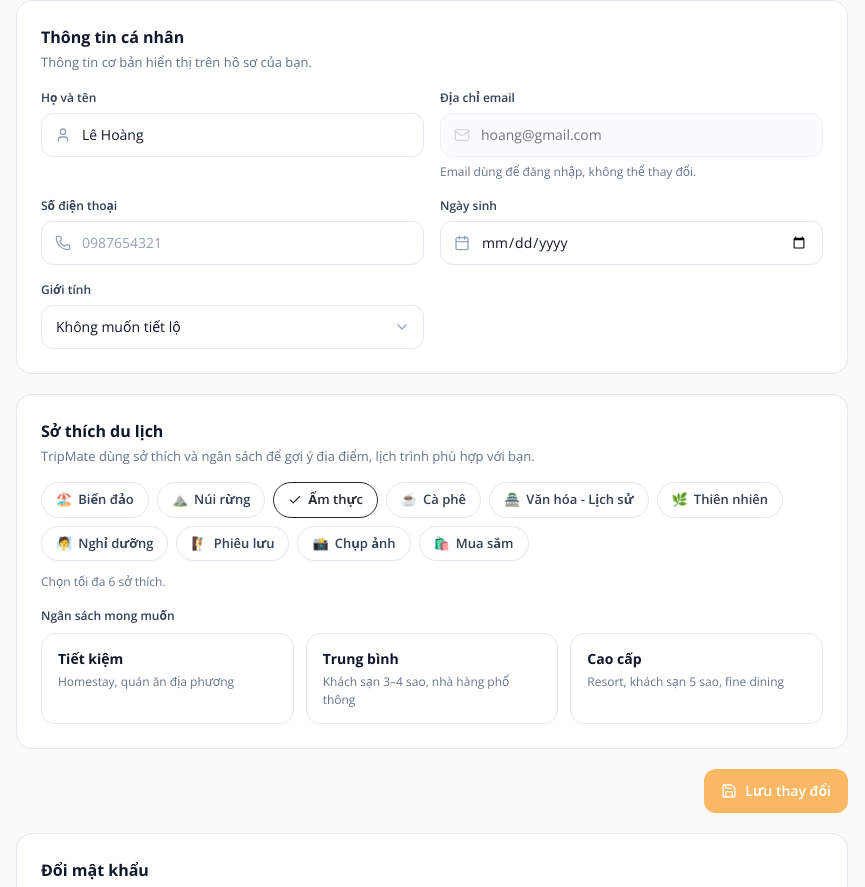
Test: Tab Cài đặt tài khoản › giới hạn tối đa 6 sở thích
Click the button "🏖️ Biển đảo" at coordinates (95, 500), box [41,482,149,518]
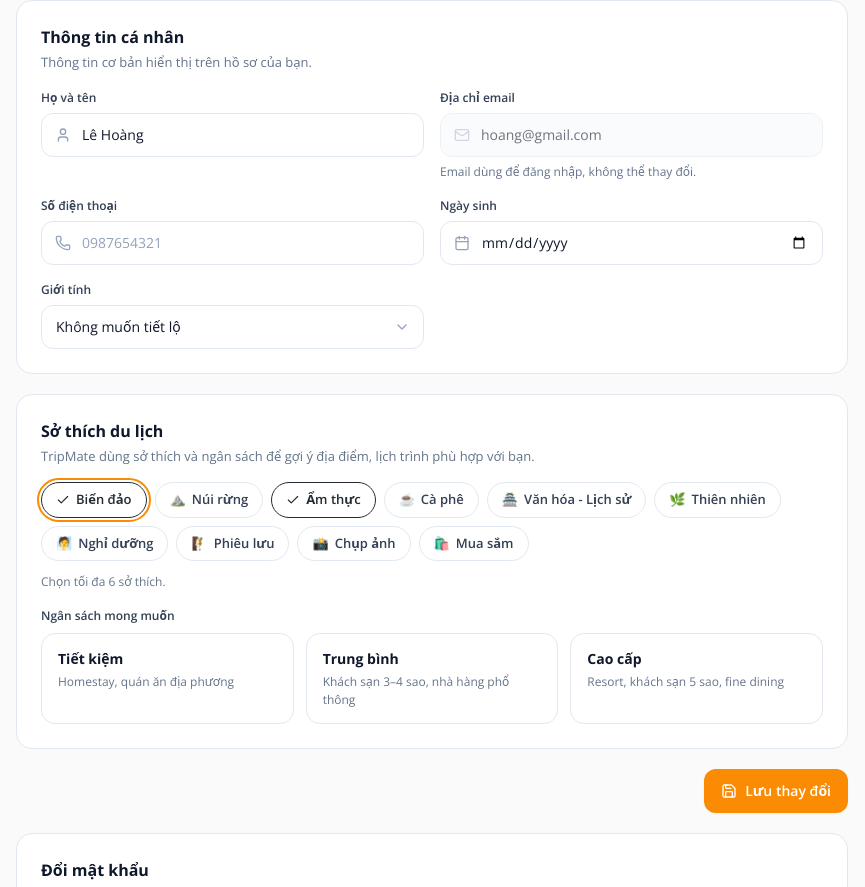
Click the button "⛰️ Núi rừng" at coordinates (209, 500), box [154,482,263,518]
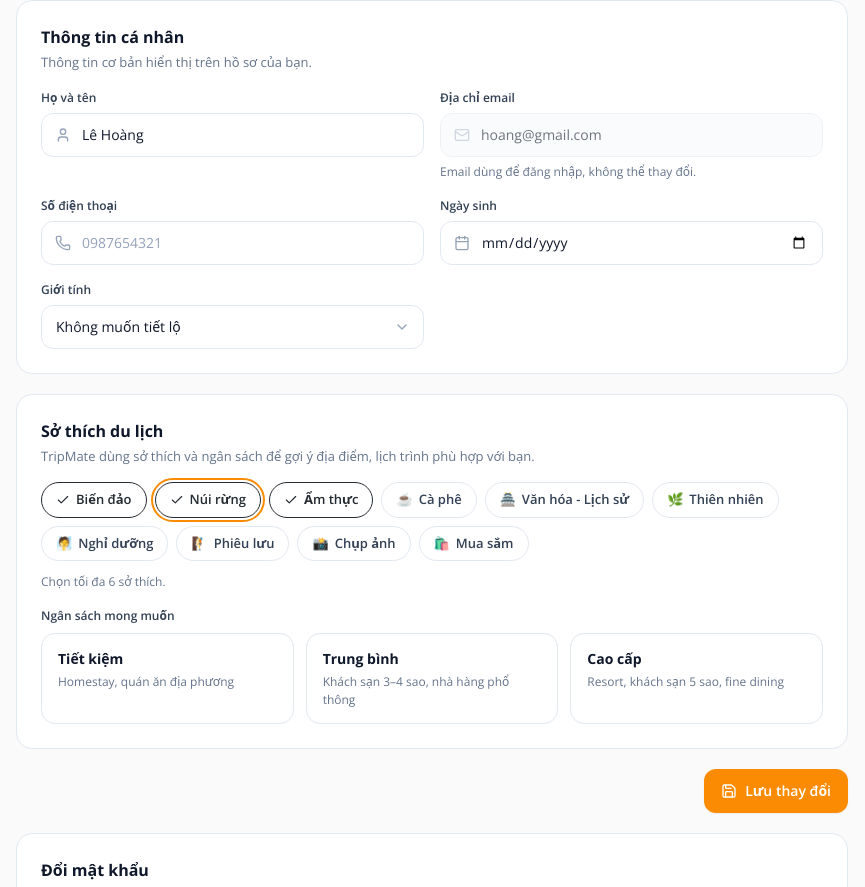
Click the button "☕ Cà phê" at coordinates (429, 500), box [381,482,477,518]
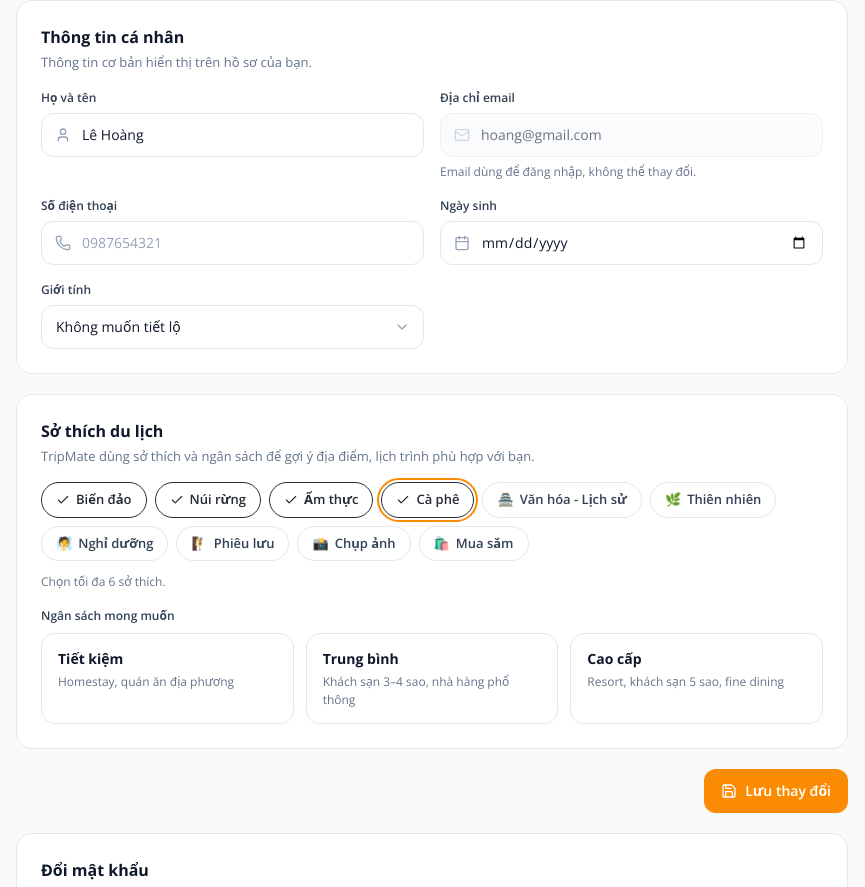
Click the button "🌿 Thiên nhiên" at coordinates (713, 500), box [650,482,776,518]
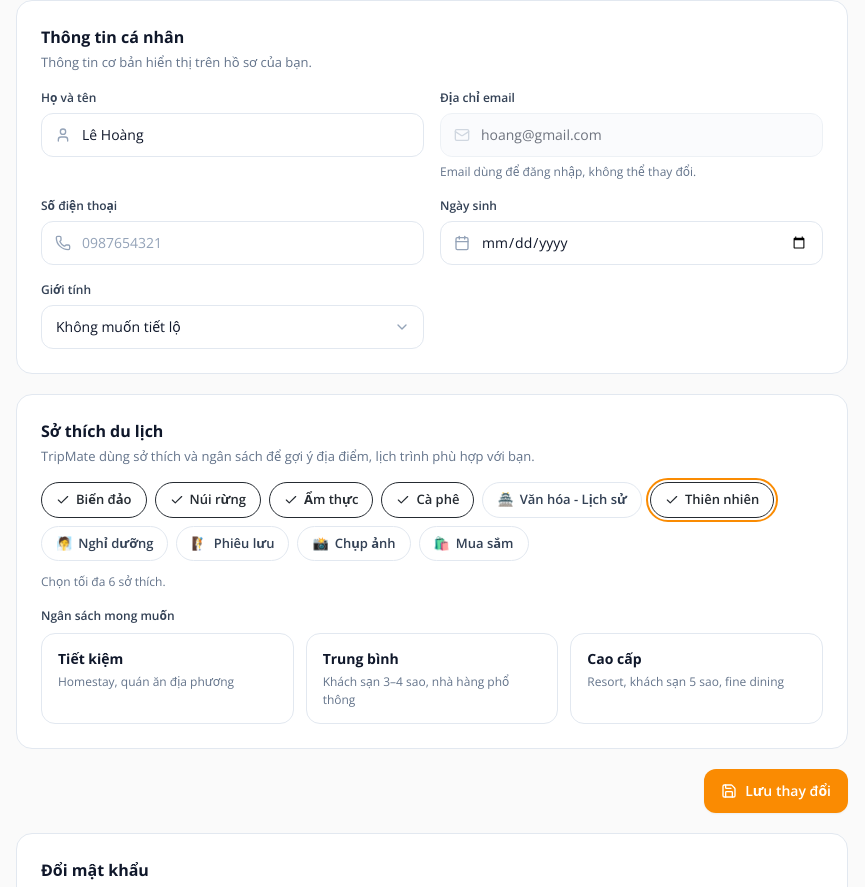
Click the button "🧖 Nghỉ dưỡng" at coordinates (105, 543), box [41,526,168,561]
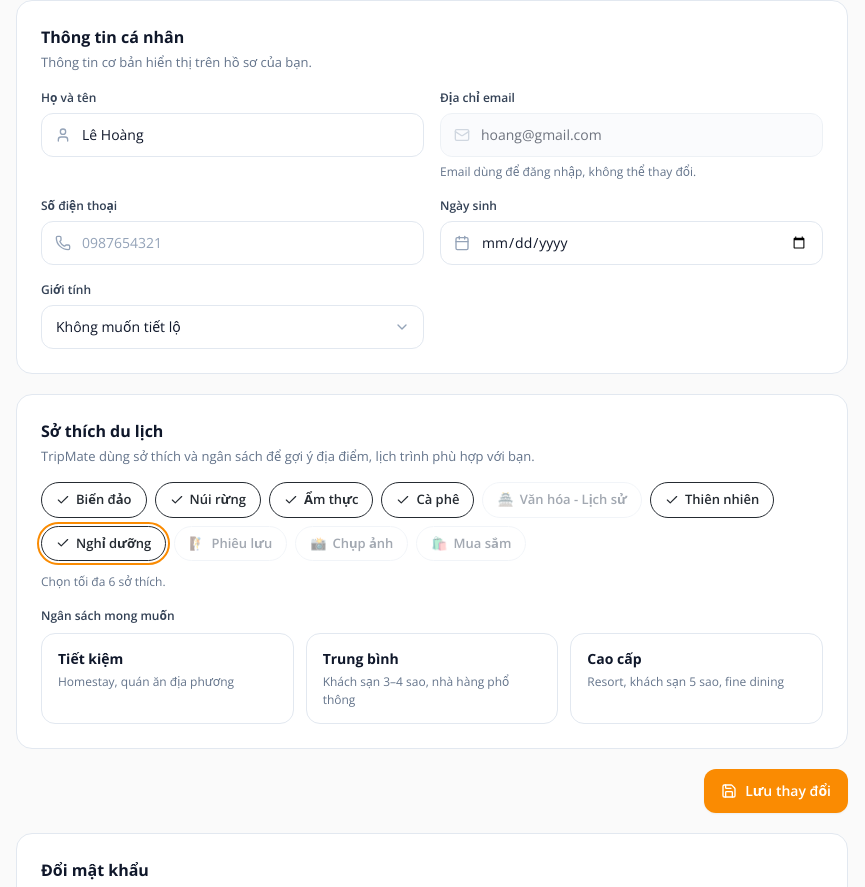
Result: the button "🧗 Phiêu lưu" is disabled at [174,526,287,561]
